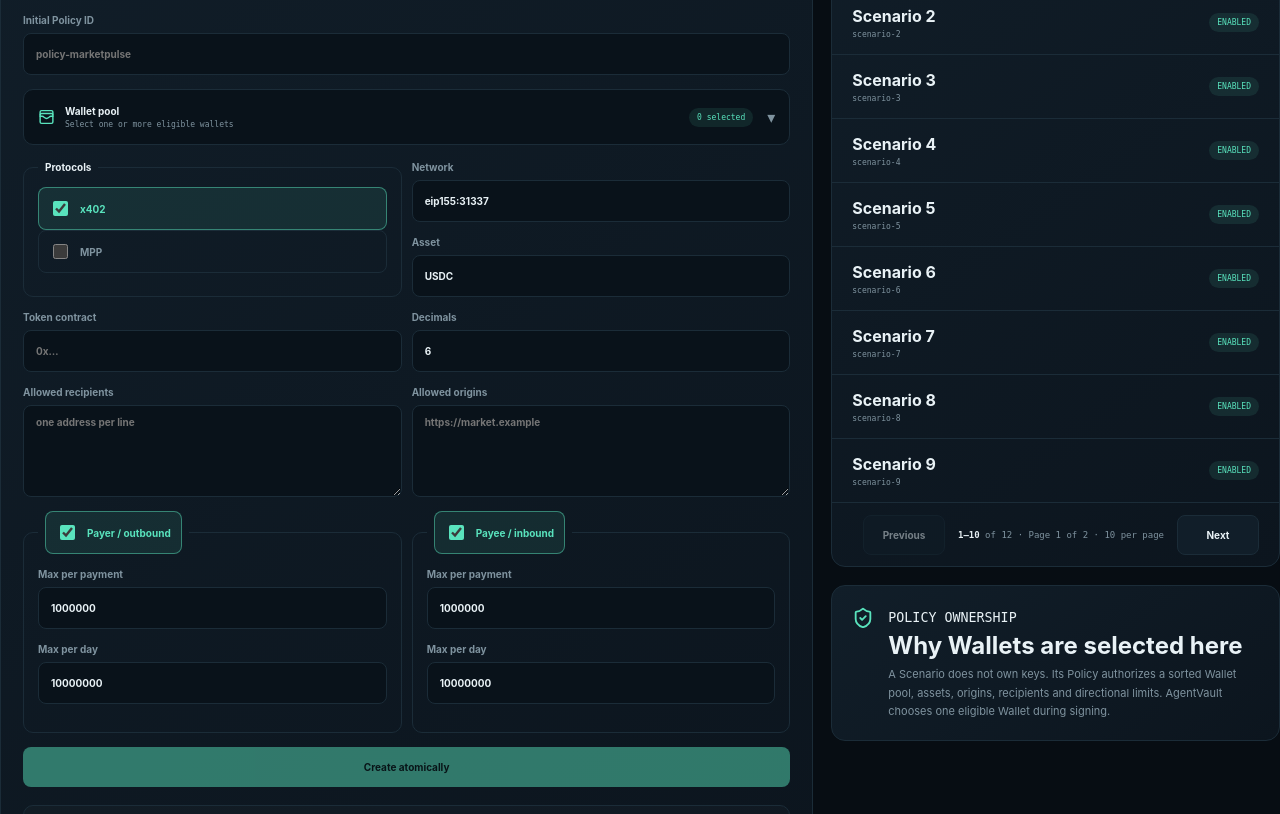
Test: ScenariosPage › lists a client’s scenarios in ten-row pages
(page scrolled)
Expected: the navigation bar named "Client scenarios pagination" shows "1–10 of 12", [832,502,1279,566]
Expected: the text "Scenario 10" is not shown
Click the button "Next".
click(1218, 535)  # box [1177,515,1259,555]
(page scrolled)
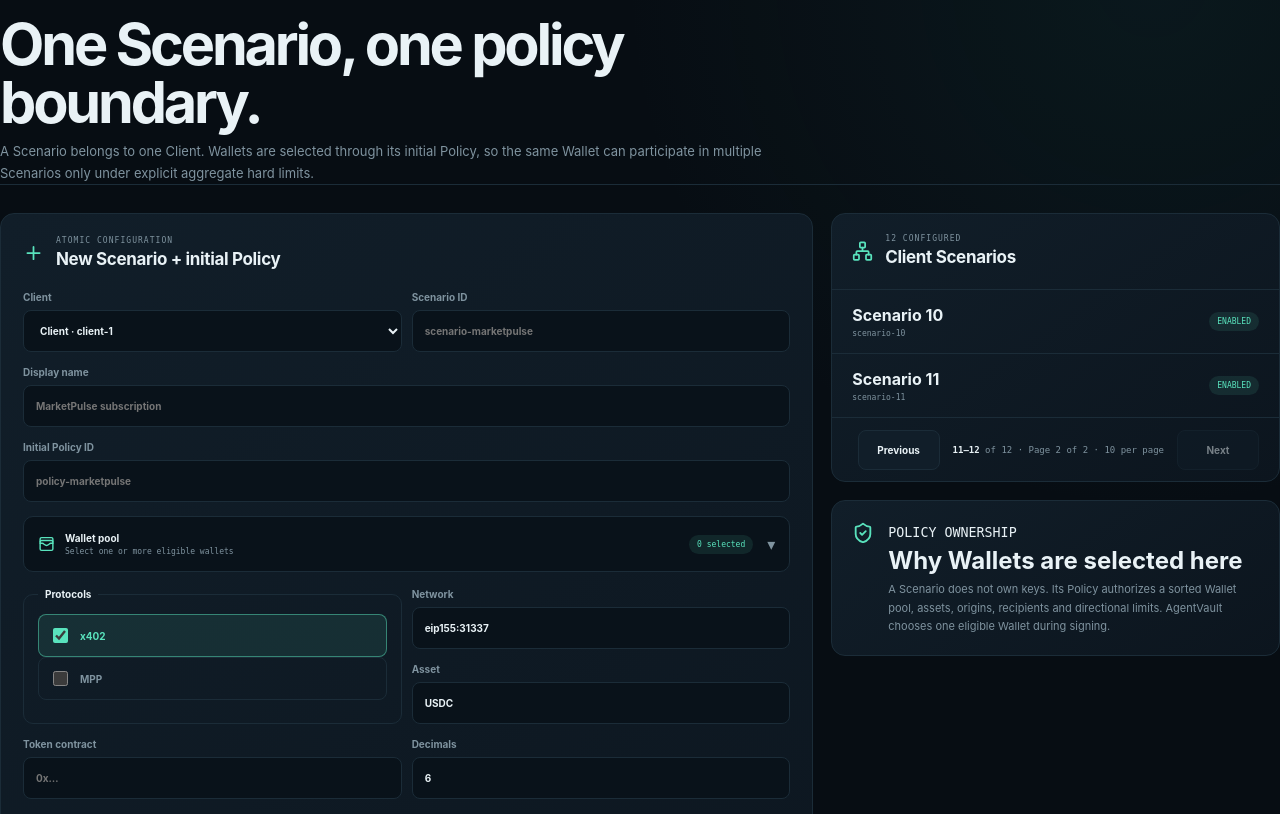
Expected: the text "Scenario 10" is shown, [852,305,943,325]
